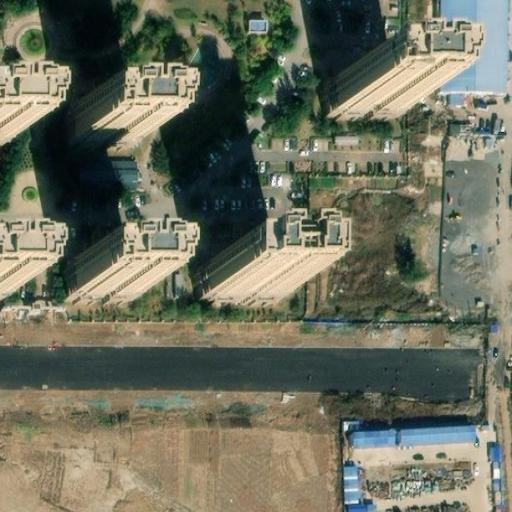building: (51, 117, 126, 157), (200, 265, 275, 305), (52, 272, 126, 312), (334, 72, 408, 112), (398, 424, 476, 445), (350, 428, 399, 448), (343, 465, 360, 504), (244, 15, 266, 33), (349, 503, 367, 512)
